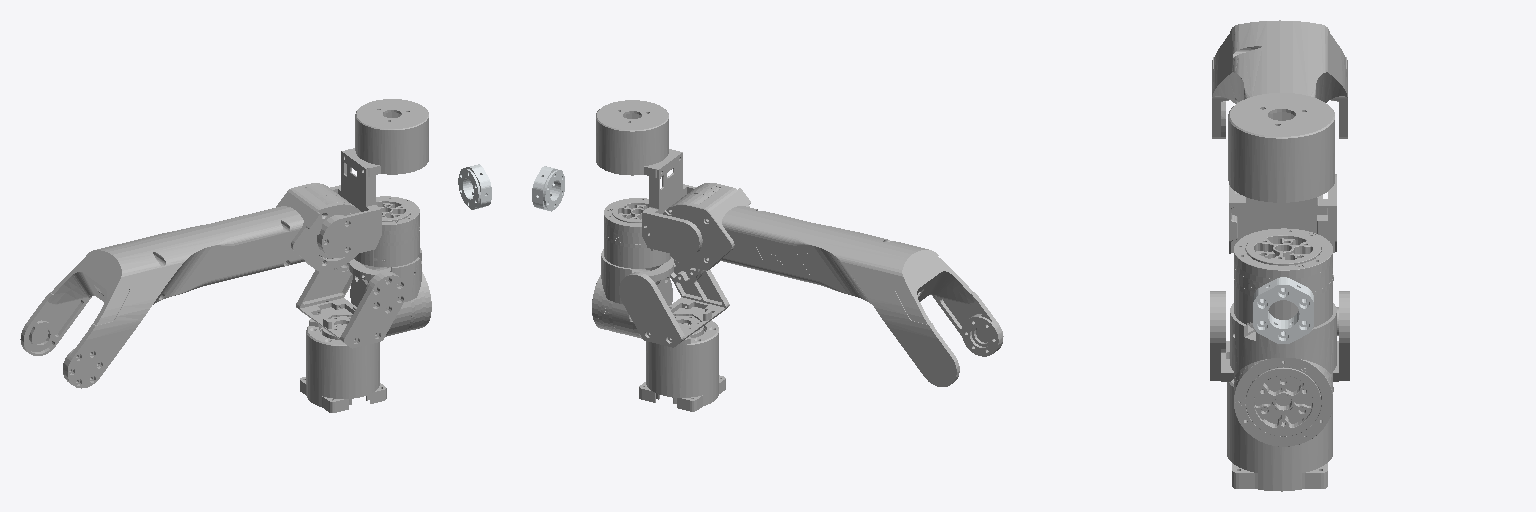
The robot description file, URDF, robot "ultron":
<?xml version="1.0" ?>
<!-- =================================================================================== -->
<!-- |    This document was autogenerated by xacro from ultron.xacro                   | -->
<!-- |    EDITING THIS FILE BY HAND IS NOT RECOMMENDED                                 | -->
<!-- =================================================================================== -->
<!-- This URDF was automatically created by SolidWorks to URDF Exporter! Originally created by [author] ([email redacted]) 
     Commit Version: 1.6.0-4-g7f85cfe  Build Version: 1.6.7995.38578
     For more information, please see http://wiki.ros.org/sw_urdf_exporter -->
<robot name="ultron">
  <!-- Used for fixing robot to Gazebo 'base_link' -->
  <link name="world"/>
  <joint name="fixed" type="fixed">
    <origin rpy="0 0 0" xyz="0 0 0.0"/>
    <parent link="world"/>
    <child link="base_link"/>
  </joint>
  <!--base_link-->
  <link name="base_link">
    <inertial>
      <origin rpy="0 0 0" xyz="-2.9956E-05 3.0541E-05 0.027289"/>
      <mass value="0.44061"/>
      <inertia ixx="0.00017" ixy="0.00000" ixz="0.00000" iyy="0.00018" iyz="0.00000" izz="0.00016"/>
    </inertial>
    <visual>
      <origin rpy="0 0 0" xyz="0 0 0"/>
      <geometry>
        <mesh filename="package://ultron/meshes/base_link.STL"/>
      </geometry>
      <material name="">
        <color rgba="0.75294 0.75294 0.75294 1"/>
      </material>
    </visual>
    <collision>
      <origin rpy="0 0 0" xyz="0 0 0"/>
      <geometry>
        <mesh filename="package://ultron/meshes/base_link.STL"/>
      </geometry>
    </collision>
  </link>
  <link name="link1">
    <inertial>
      <origin rpy="0 0 0" xyz="-0.00012207 -6.5868E-06 0.016529"/>
      <mass value="0.078442"/>
      <inertia ixx="0.00009" ixy="0.00000" ixz="0.00000" iyy="0.00003" iyz="0.00000" izz="0.00009"/>
    </inertial>
    <visual>
      <origin rpy="0 0 0" xyz="0 0 0"/>
      <geometry>
        <mesh filename="package://ultron/meshes/link1.STL"/>
      </geometry>
      <material name="">
        <color rgba="0.75294 0.75294 0.75294 1"/>
      </material>
    </visual>
    <collision>
      <origin rpy="0 0 0" xyz="0 0 0"/>
      <geometry>
        <mesh filename="package://ultron/meshes/link1.STL"/>
      </geometry>
    </collision>
  </link>
  <joint name="joint1" type="revolute">
    <origin rpy="0 0 0" xyz="0 0 0.0603"/>
    <parent link="base_link"/>
    <child link="link1"/>
    <axis xyz="0 0 1"/>
    <limit effort="25.0" lower="-1.57" upper="1.57" velocity="10.0"/>
    <dynamics damping="0.8" friction="0.01"/>
  </joint>
  <link name="link2">
    <inertial>
      <origin rpy="0 0 0" xyz="-0.13238 0.0021952 0.00011182"/>
      <mass value="1.073"/>
      <inertia ixx="0.00050" ixy="0.00000" ixz="-0.00004" iyy="0.01596" iyz="0.00000" izz="0.01602"/>
    </inertial>
    <visual>
      <origin rpy="0 0 0" xyz="0 0 0"/>
      <geometry>
        <mesh filename="package://ultron/meshes/link2.STL"/>
      </geometry>
      <material name="">
        <color rgba="0.75294 0.75294 0.75294 1"/>
      </material>
    </visual>
    <collision>
      <origin rpy="0 0 0" xyz="0 0 0"/>
      <geometry>
        <mesh filename="package://ultron/meshes/link2.STL"/>
      </geometry>
    </collision>
  </link>
  <joint name="joint2" type="revolute">
    <origin rpy="0 0 0" xyz="0 0 0.0402"/>
    <parent link="link1"/>
    <child link="link2"/>
    <axis xyz="0 1 0"/>
    <limit effort="25.0" lower="0." upper="3.14" velocity="10."/>
    <dynamics damping="0.8" friction="0.01"/>
  </joint>
  <link name="link3">
    <inertial>
      <origin rpy="0 0 0" xyz="0.18794 0.0016321 -0.051557"/>
      <mass value="0.50518"/>
      <inertia ixx="0.00037" ixy="-0.00001" ixz="-0.00039" iyy="0.00393" iyz="0.00001" izz="0.00390"/>
    </inertial>
    <visual>
      <origin rpy="0 0 0" xyz="0 0 0"/>
      <geometry>
        <mesh filename="package://ultron/meshes/link3.STL"/>
      </geometry>
      <material name="">
        <color rgba="0.75294 0.75294 0.75294 1"/>
      </material>
    </visual>
    <collision>
      <origin rpy="0 0 0" xyz="0 0 0"/>
      <geometry>
        <mesh filename="package://ultron/meshes/link3.STL"/>
      </geometry>
    </collision>
  </link>
  <joint name="joint3" type="revolute">
    <origin rpy="-3.1416 0 0" xyz="-0.264 0 0"/>
    <parent link="link2"/>
    <child link="link3"/>
    <axis xyz="0 1 0"/>
    <limit effort="25." lower="0." upper="3.14" velocity="10."/>
    <dynamics damping="0.8" friction="0.01"/>
  </joint>
  <link name="link4">
    <inertial>
      <origin rpy="0 0 0" xyz="0.054496 -0.00085704 0.0020301"/>
      <mass value="0.34332"/>
      <inertia ixx="0.00018" ixy="-0.00001" ixz="0.00000" iyy="0.00022" iyz="0.00001" izz="0.00026"/>
    </inertial>
    <visual>
      <origin rpy="0 0 0" xyz="0 0 0"/>
      <geometry>
        <mesh filename="package://ultron/meshes/link4.STL"/>
      </geometry>
      <material name="">
        <color rgba="0.75294 0.75294 0.75294 1"/>
      </material>
    </visual>
    <collision>
      <origin rpy="0 0 0" xyz="0 0 0"/>
      <geometry>
        <mesh filename="package://ultron/meshes/link4.STL"/>
      </geometry>
    </collision>
  </link>
  <joint name="joint4" type="revolute">
    <origin rpy="0 0 0" xyz="0.245 0 -0.056"/>
    <parent link="link3"/>
    <child link="link4"/>
    <axis xyz="0 1 0"/>
    <limit effort="15.0" lower="-1.5" upper="1.5" velocity="10."/>
    <dynamics damping="0.8" friction="0.01"/>
  </joint>
  <link name="link5">
    <inertial>
      <origin rpy="0 0 0" xyz="0.053308 5.0047E-05 -0.0012315"/>
      <mass value="0.33126"/>
      <inertia ixx="0.00017" ixy="0.00000" ixz="-0.00001" iyy="0.00024" iyz="0.00000" izz="0.00021"/>
    </inertial>
    <visual>
      <origin rpy="0 0 0" xyz="0 0 0"/>
      <geometry>
        <mesh filename="package://ultron/meshes/link5.STL"/>
      </geometry>
      <material name="">
        <color rgba="0.75294 0.75294 0.75294 1"/>
      </material>
    </visual>
    <collision>
      <origin rpy="0 0 0" xyz="0 0 0"/>
      <geometry>
        <mesh filename="package://ultron/meshes/link5.STL"/>
      </geometry>
    </collision>
  </link>
  <joint name="joint5" type="revolute">
    <origin rpy="0 0 0" xyz="0.06 -0.002 0.0005"/>
    <parent link="link4"/>
    <child link="link5"/>
    <axis xyz="0 0 1"/>
    <limit effort="15.0" lower="-1.5" upper="1.5" velocity="10.0"/>
    <dynamics damping="0.8" friction="0.01"/>
  </joint>
  <link name="link6">
    <inertial>
      <origin rpy="0 0 0" xyz="0.0057186 2.3419E-17 0"/>
      <mass value="0.022383"/>
      <inertia ixx="0.00000" ixy="0.00000" ixz="0.00000" iyy="0.00000" iyz="0.00000" izz="0.00000"/>
    </inertial>
    <visual>
      <origin rpy="0 0 0" xyz="0 0 0"/>
      <geometry>
        <mesh filename="package://ultron/meshes/link6.STL"/>
      </geometry>
      <material name="">
        <color rgba="0.89804 0.91765 0.92941 1"/>
      </material>
    </visual>
    <collision>
      <origin rpy="0 0 0" xyz="0 0 0"/>
      <geometry>
        <box size="0.001 0.001 0.001"/>
      </geometry>
      <!-- <geometry>
        <mesh filename="package://ultron/meshes/link6.STL"/>
      </geometry> -->
    </collision>
  </link>
  <joint name="joint6" type="revolute">
    <origin rpy="3.1416 0 0" xyz="0.078 0 -0.0005"/>
    <parent link="link5"/>
    <child link="link6"/>
    <axis xyz="1 0 0"/>
    <limit effort="15." lower="-10" upper="10" velocity="10."/>
    <dynamics damping="0.8" friction="0.01"/>
  </joint>
  <transmission name="joint1_trans">
    <type>transmission_interface/SimpleTransmission</type>
    <joint name="joint1">
      <hardwareInterface>hardware_interface/EffortJointInterface</hardwareInterface>
    </joint>
    <actuator name="joint1_motor">
      <mechanicalReduction>1</mechanicalReduction>
    </actuator>
  </transmission>
  <transmission name="joint2_trans">
    <type>transmission_interface/SimpleTransmission</type>
    <joint name="joint2">
      <hardwareInterface>hardware_interface/EffortJointInterface</hardwareInterface>
    </joint>
    <actuator name="joint2_motor">
      <mechanicalReduction>1</mechanicalReduction>
    </actuator>
  </transmission>
  <transmission name="joint3_trans">
    <type>transmission_interface/SimpleTransmission</type>
    <joint name="joint3">
      <hardwareInterface>hardware_interface/EffortJointInterface</hardwareInterface>
    </joint>
    <actuator name="joint3_motor">
      <mechanicalReduction>1</mechanicalReduction>
    </actuator>
  </transmission>
  <transmission name="joint4_trans">
    <type>transmission_interface/SimpleTransmission</type>
    <joint name="joint4">
      <hardwareInterface>hardware_interface/EffortJointInterface</hardwareInterface>
    </joint>
    <actuator name="joint4_motor">
      <mechanicalReduction>1</mechanicalReduction>
    </actuator>
  </transmission>
  <transmission name="joint5_trans">
    <type>transmission_interface/SimpleTransmission</type>
    <joint name="joint5">
      <hardwareInterface>hardware_interface/EffortJointInterface</hardwareInterface>
    </joint>
    <actuator name="joint5_motor">
      <mechanicalReduction>1</mechanicalReduction>
    </actuator>
  </transmission>
  <transmission name="joint6_trans">
    <type>transmission_interface/SimpleTransmission</type>
    <joint name="joint6">
      <hardwareInterface>hardware_interface/EffortJointInterface</hardwareInterface>
    </joint>
    <actuator name="joint6_motor">
      <mechanicalReduction>1</mechanicalReduction>
    </actuator>
  </transmission>
  <!-- ros_control plugins -->
  <gazebo>
    <plugin filename="libgazebo_ros_control.so" name="gazebo_ros_control">
      <robotNamespace>/ultron</robotNamespace>
      <robotSimType>gazebo_ros_control/DefaultRobotHWSim</robotSimType>
      <legacyModeNS>true</legacyModeNS>
    </plugin>
  </gazebo>
</robot>

--- Facts derived from the render (not from the file) ---
Views: 3 orthographic renders of the robot side by side, from view 1: azimuth 30°, elevation 25°; view 2: azimuth 150°, elevation 25°; view 3: azimuth 270°, elevation 25°.
Robot: ultron — 8 links, 7 joints (6 revolute, 1 fixed); root link world; default pose: every joint at zero.
Links seen in each view (by area): view 1: link3, link4, link5, link1, base_link, link6; view 2: link3, link4, link5, link1, base_link, link6; view 3: link5, link4, link3, base_link, link6, link1.
Link boxes in pixels (x1,y1,x2,y2): link3: (20,183,360,388); link4: (317,99,428,257); link5: (349,196,431,336); link1: (296,263,406,348); base_link: (300,319,386,412); link6: (458,164,491,209); link3: (663,183,1003,386); link4: (596,100,702,256); link5: (592,198,673,338); link1: (619,260,729,347); base_link: (639,320,725,411); link6: (532,166,564,211); link5: (1230,228,1336,446); link4: (1228,93,1336,253); link3: (1212,20,1347,198); base_link: (1227,379,1332,491); link6: (1253,277,1313,343); link1: (1210,291,1349,381).
Bounding box of the posed robot: 0.4122 × 0.0785 × 0.241 m (x, y, z).
Meshes: 7 distinct files referenced, 6 mesh visuals loaded (6 binary STL); not drawn: 1 (reference not matched to a file when rendering).